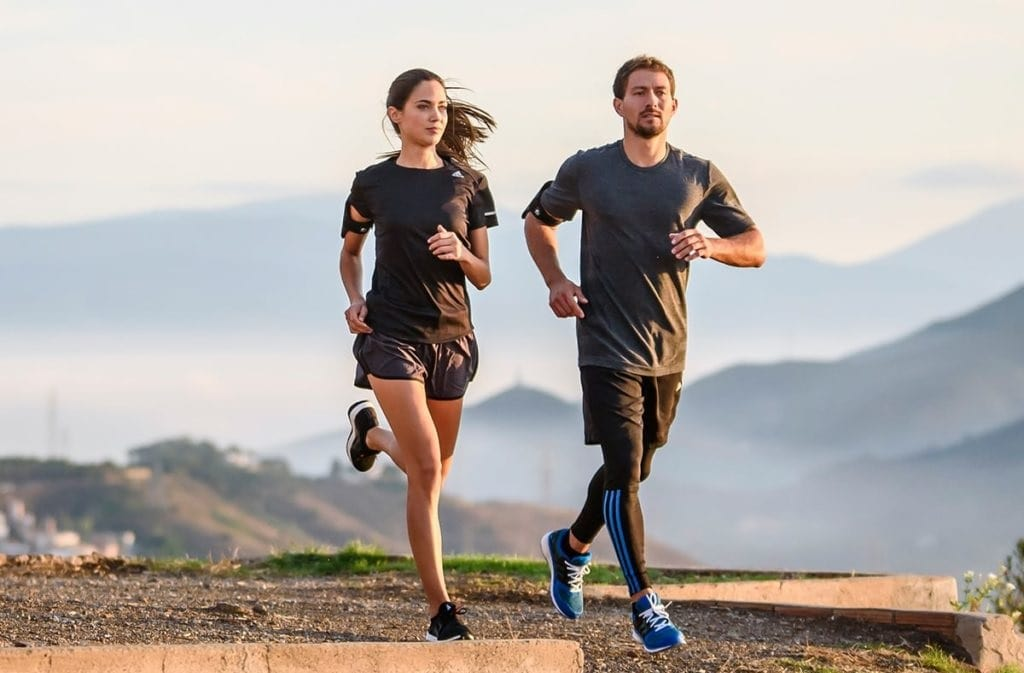without_mask: (625, 70, 672, 140), (400, 85, 450, 146)
